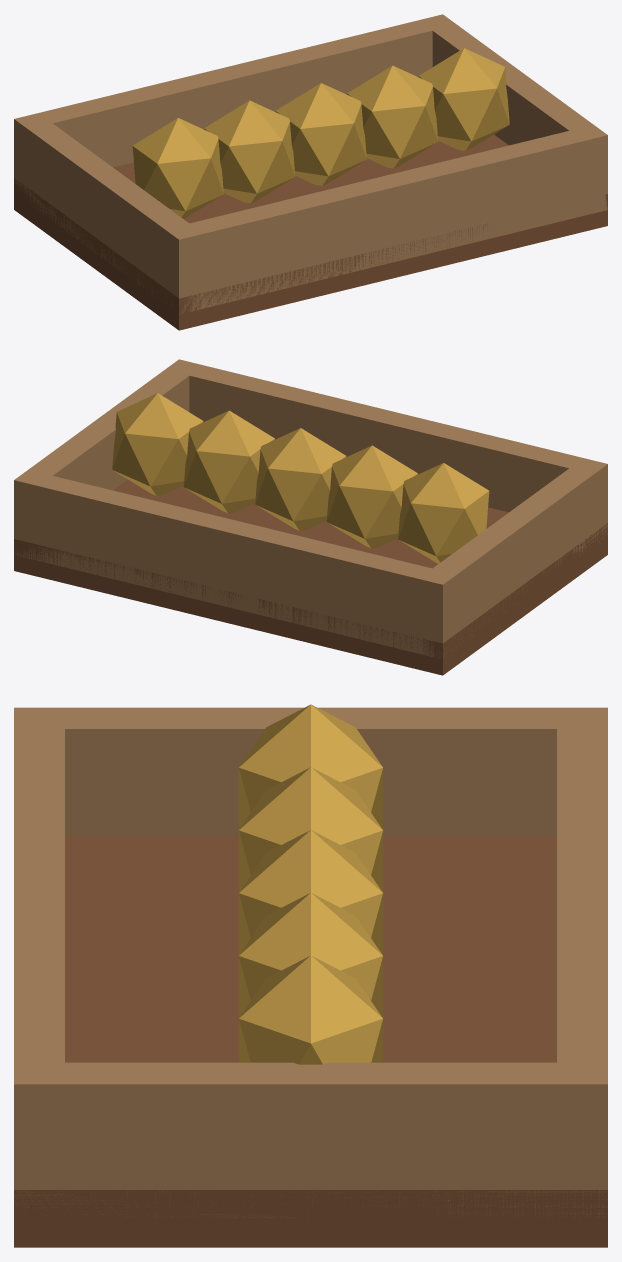
Rendered from set_bread_rolls.glb.
3 views of the same model, one above another, from view 1: azimuth 30°, elevation 25°; view 2: azimuth 150°, elevation 25°; view 3: azimuth 270°, elevation 25° (orthographic). The views are drawn at different scales.
Parts seen in each view (by area): view 1: set_bread_rolls; view 2: set_bread_rolls; view 3: set_bread_rolls.
Part boxes in pixels (x1,y1,x2,y2): set_bread_rolls: (14, 14, 607, 330); set_bread_rolls: (14, 359, 607, 675); set_bread_rolls: (14, 704, 607, 1247).
Bounding box in the file's own units: 0.42 × 0.124 × 0.28.
